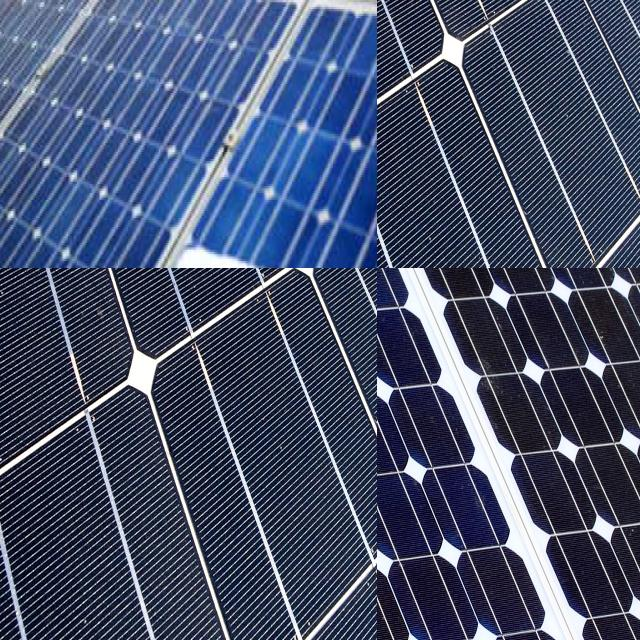crack: (110, 268, 377, 640), (377, 268, 640, 638), (443, 0, 640, 268), (377, 47, 590, 268), (57, 268, 305, 436), (377, 0, 608, 139), (377, 0, 501, 185), (214, 268, 377, 407), (544, 0, 640, 229)
panel: (0, 124, 56, 255), (0, 11, 51, 114)
